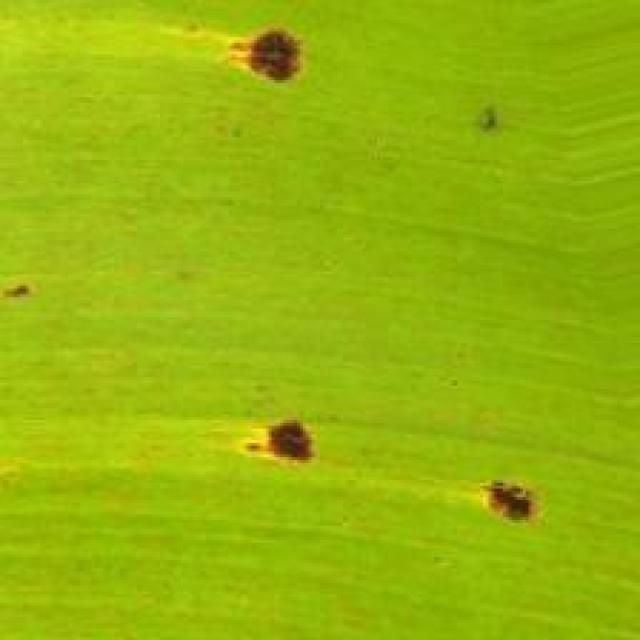Bacterial_spot: (194, 7, 332, 100), (462, 456, 562, 555), (227, 404, 338, 478), (460, 90, 510, 146), (0, 260, 45, 315)
